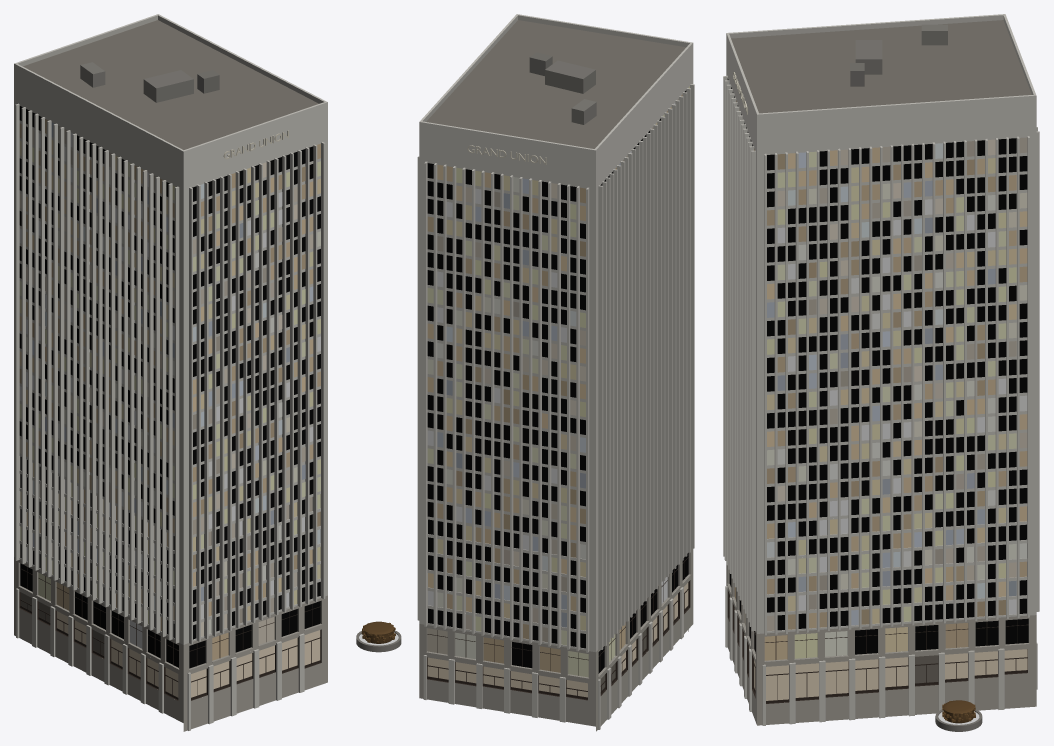
File: grandHyatt_lod0.glb
3 views of the same model, side by side, from view 1: azimuth 30°, elevation 25°; view 2: azimuth 150°, elevation 25°; view 3: azimuth 270°, elevation 25° (orthographic). The views are drawn at different scales.
Parts seen in each view (by area): view 1: L0_concrete, L0_win, L0_roof, L0_shop, L0_metal; view 2: L0_concrete, L0_win, L0_roof, L0_metal, L0_shop; view 3: L0_concrete, L0_win, L0_roof, L0_shop, L0_metal.
Part boxes in pixels (x1,y1,x2,y2): L0_concrete: [14, 14, 327, 731]; L0_win: [19, 106, 320, 668]; L0_roof: [23, 20, 318, 149]; L0_shop: [20, 592, 320, 697]; L0_metal: [19, 567, 321, 700]; L0_concrete: [417, 14, 694, 731]; L0_win: [427, 86, 689, 677]; L0_roof: [426, 20, 685, 148]; L0_metal: [361, 557, 690, 700]; L0_shop: [427, 582, 688, 697]; L0_concrete: [723, 14, 1039, 725]; L0_win: [727, 78, 1028, 660]; L0_roof: [731, 20, 1031, 113]; L0_shop: [730, 596, 1027, 700]; L0_metal: [727, 587, 1028, 723].
Bounding box in the file's own units: 45.38 × 99.44 × 45.89.
